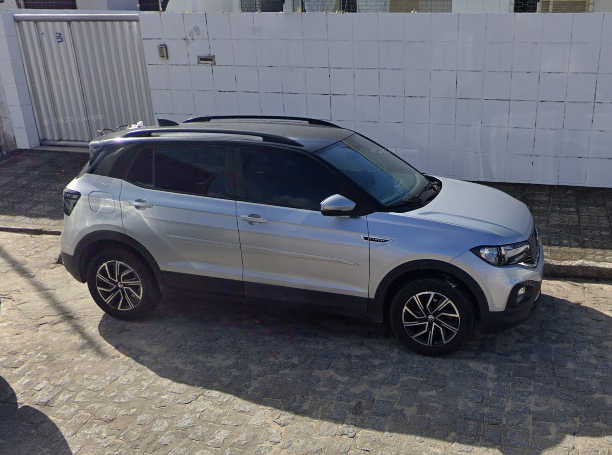car: (58, 108, 548, 359)
